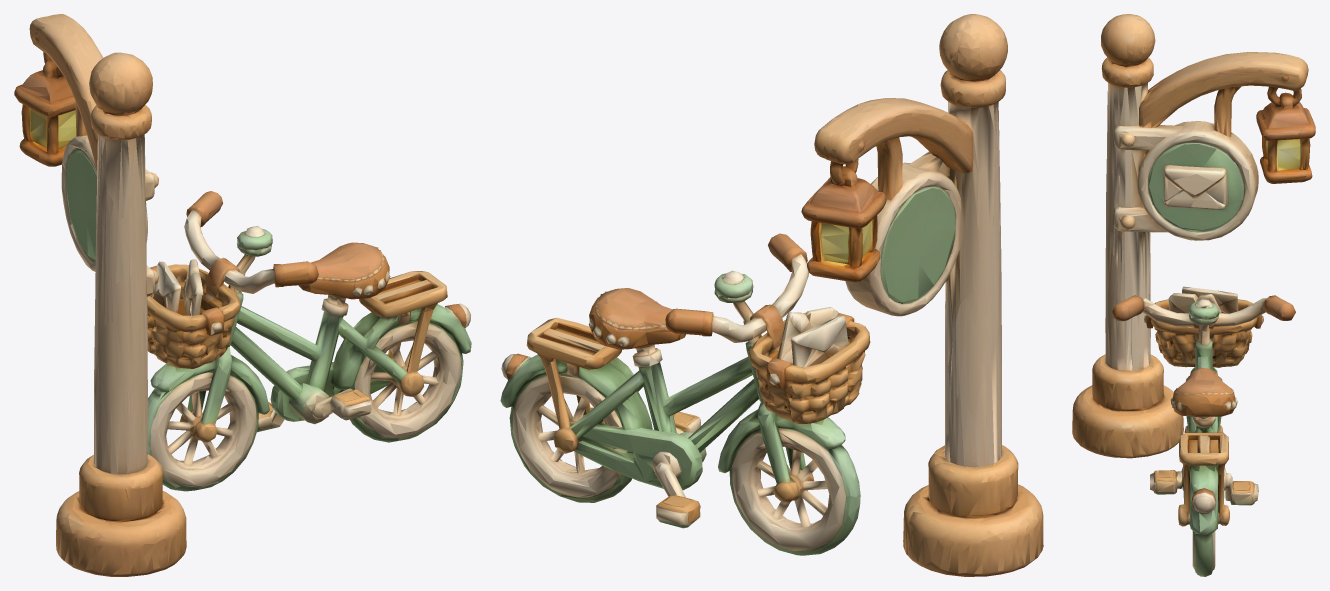
3 renders of one model, left to right at view 1: azimuth 30°, elevation 25°; view 2: azimuth 150°, elevation 25°; view 3: azimuth 270°, elevation 25°, orthographic. The views are drawn at different scales.
Parts seen in each view (by area): view 1: F42_Bicycle, F42_Signpost; view 2: F42_Bicycle, F42_Signpost; view 3: F42_Signpost, F42_Bicycle.
Part boxes in pixels (<box>): F42_Bicycle: <box>147,191,471,491</box>; F42_Signpost: <box>14,14,186,576</box>; F42_Bicycle: <box>500,233,870,555</box>; F42_Signpost: <box>801,14,1043,576</box>; F42_Signpost: <box>1072,14,1315,458</box>; F42_Bicycle: <box>1112,286,1295,576</box>.
Size of the model in its own units: 2.18 by 2.3 by 1.21.
2 materials, 2 textured.
